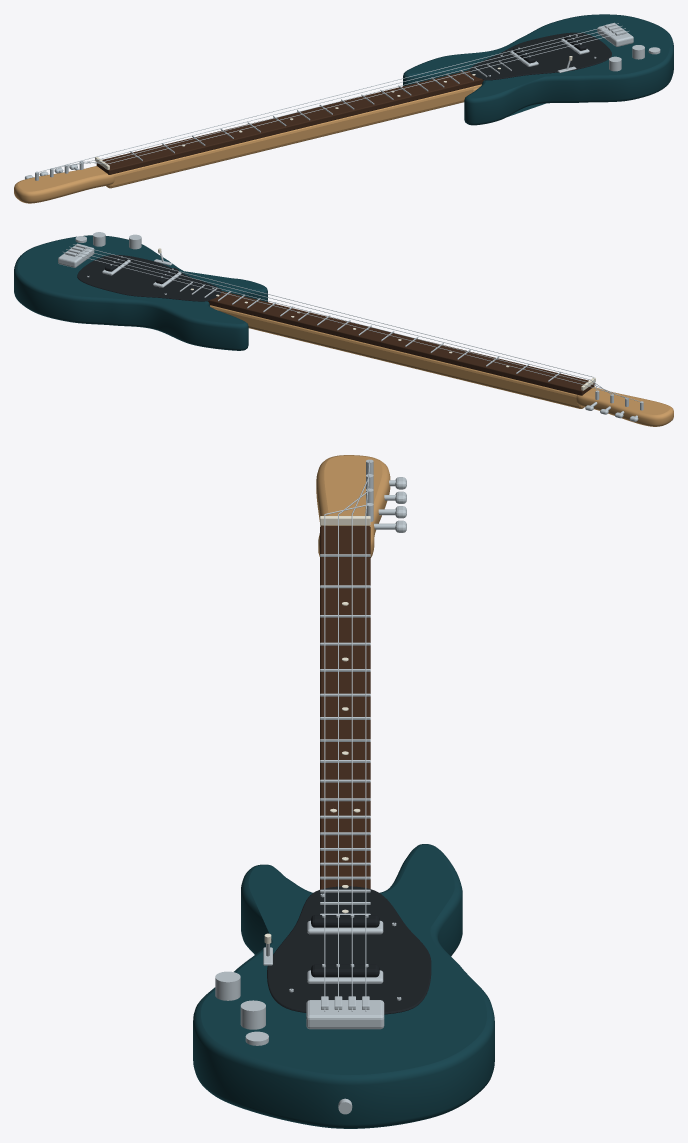
File: Bass.fbx
The picture shows the model from 3 angles, top to bottom: view 1: azimuth 30°, elevation 25°; view 2: azimuth 150°, elevation 25°; view 3: azimuth 270°, elevation 25°; orthographic projection. The views are drawn at different scales.
Parts seen in each view (by area): view 1: Carved body, Rosewood fingerboard, Maple neck, Inset pickguard, Headstock, String 2, String 3, String 4, String 1, Bridge; view 2: Carved body, Rosewood fingerboard, Maple neck, Inset pickguard, Headstock, String 1, String 2, String 3, String 4, Bridge; view 3: Carved body, Rosewood fingerboard, Inset pickguard, Headstock, Bridge, String 1, String 4, String 3.
Part boxes in pixels (box(x1,y1,x2,y2)): Carved body: box(403, 14, 673, 125); Rosewood fingerboard: box(96, 70, 484, 174); Maple neck: box(106, 84, 481, 188); Inset pickguard: box(469, 32, 611, 80); Headstock: box(14, 166, 114, 203); String 2: box(104, 28, 625, 161); String 3: box(101, 26, 622, 159); String 4: box(97, 23, 618, 156); String 1: box(108, 31, 628, 163); Bridge: box(597, 24, 633, 46); Carved body: box(14, 235, 267, 350); Rosewood fingerboard: box(208, 291, 594, 395); Maple neck: box(210, 305, 584, 408); Inset pickguard: box(77, 255, 221, 301); Headstock: box(576, 387, 673, 426); String 1: box(73, 244, 593, 377); String 2: box(69, 246, 590, 379); String 3: box(66, 249, 586, 382); String 4: box(63, 252, 583, 384); Bridge: box(58, 245, 94, 267); Carved body: box(193, 844, 494, 1128); Rosewood fingerboard: box(320, 526, 370, 889); Inset pickguard: box(267, 886, 431, 1014); Headstock: box(316, 455, 390, 557); Bridge: box(306, 1000, 384, 1029); String 1: box(324, 514, 325, 1011); String 4: box(365, 514, 366, 1011); String 3: box(351, 514, 352, 1011).
Bounding box in the file's own units: 154 × 9.59 × 30.86.
